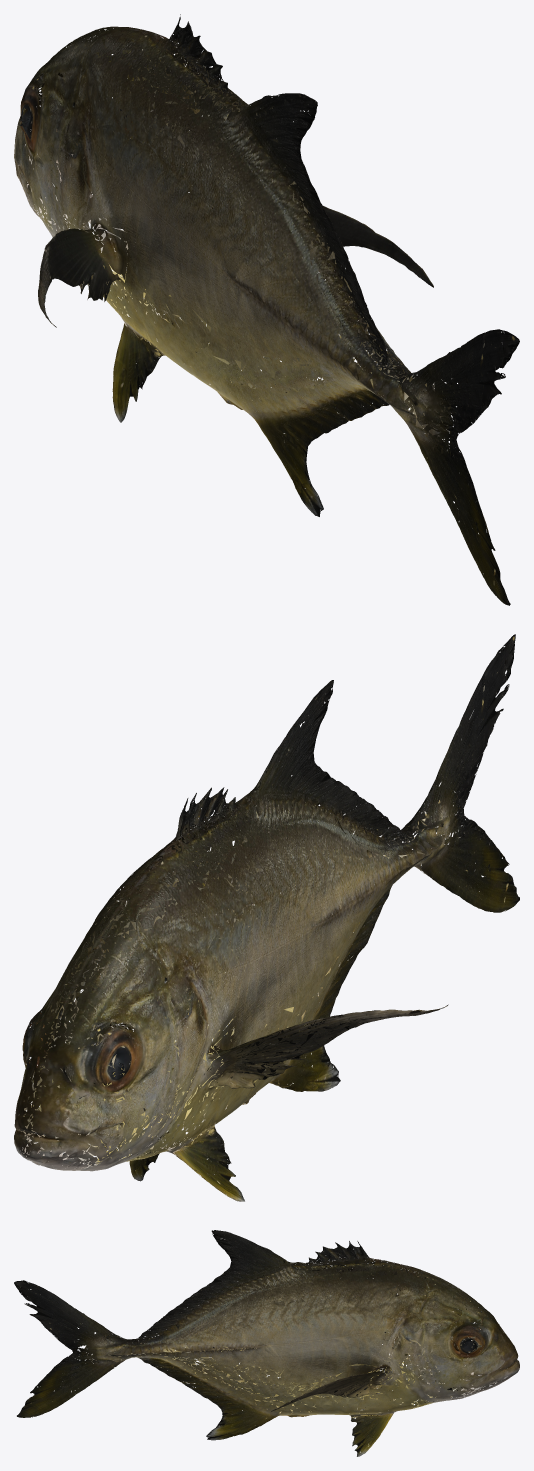
File: trevally.glb
The picture shows the model from 3 angles, top to bottom: view 1: azimuth 30°, elevation 25°; view 2: azimuth 150°, elevation 25°; view 3: azimuth 270°, elevation 25°; orthographic projection. The views are drawn at different scales.
Visible parts, largest first — view 1: GiantTrevally; view 2: GiantTrevally; view 3: GiantTrevally.
Part boxes in pixels (box(x1,y1,x2,y2)): GiantTrevally: box(14, 14, 519, 605); GiantTrevally: box(14, 634, 519, 1201); GiantTrevally: box(14, 1230, 519, 1456).
Bounding box in the file's own units: 1.02 × 1.12 × 2.4.
2 materials, 2 textured.
